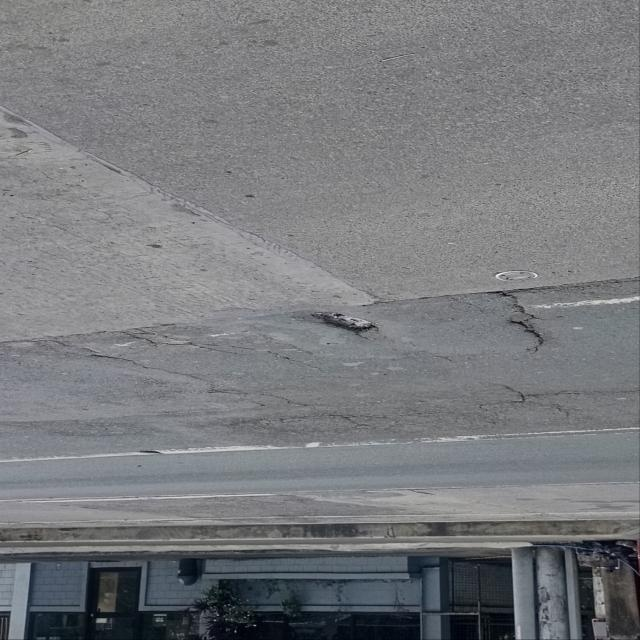pothole: (264, 273, 410, 375)
